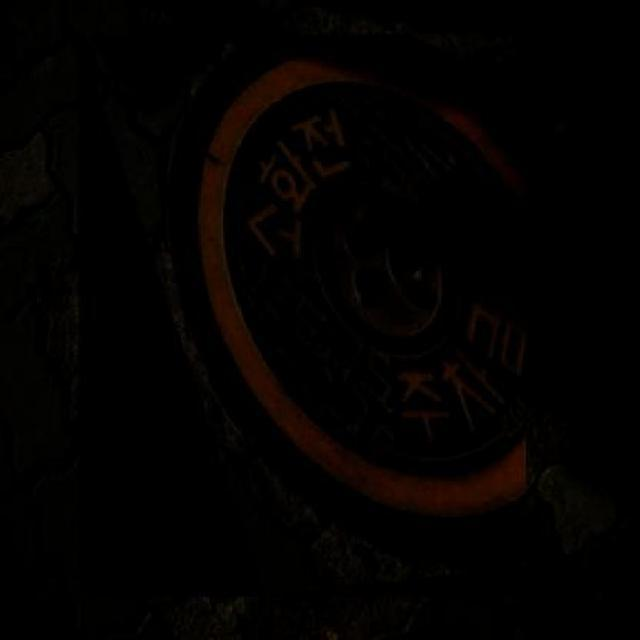Manhole: (79, 33, 526, 598)
